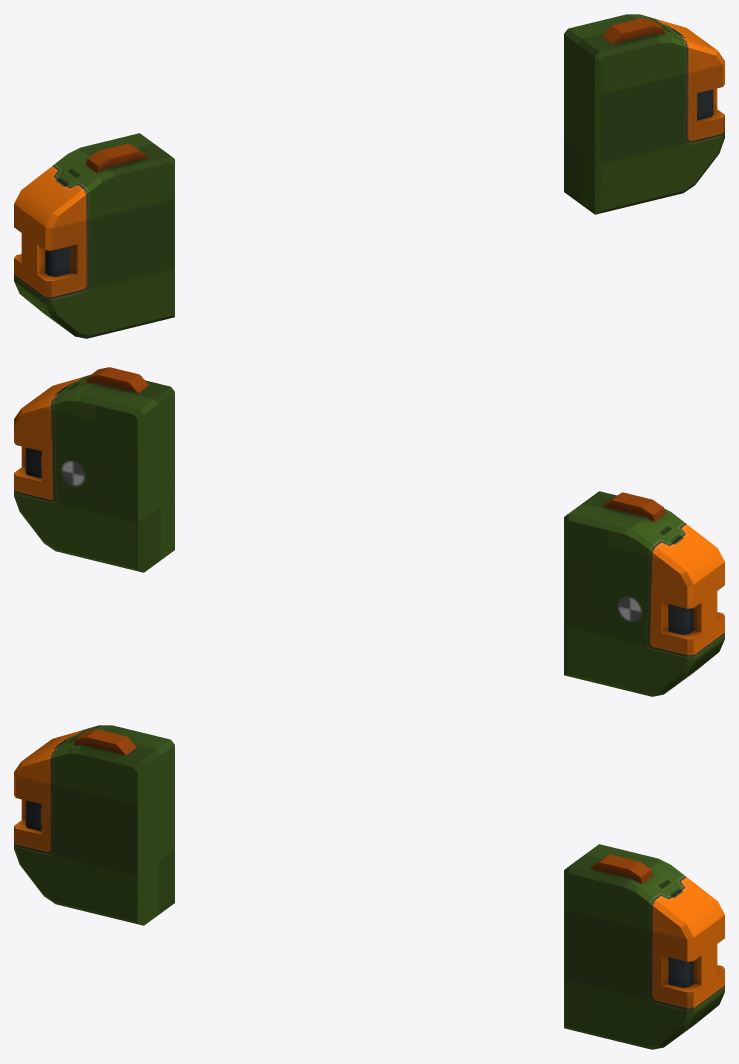
The model's file is Mod-L_blue.FBX.
3 renders of one model, top to bottom at view 1: azimuth 30°, elevation 25°; view 2: azimuth 150°, elevation 25°; view 3: azimuth 330°, elevation 25°, orthographic.
Visible parts, largest first — view 1: Mod-L_Left, Mod-L_Right; view 2: Mod-L_Left, Mod-L_Right; view 3: Mod-L_Right, Mod-L_Left.
Boxes of the visible parts, x1=… form: Mod-L_Left: x1=564, y1=14, x2=724, y2=214; Mod-L_Right: x1=14, y1=133, x2=174, y2=338; Mod-L_Left: x1=14, y1=367, x2=174, y2=572; Mod-L_Right: x1=564, y1=491, x2=724, y2=696; Mod-L_Right: x1=14, y1=725, x2=174, y2=925; Mod-L_Left: x1=564, y1=844, x2=724, y2=1049.
Size of the model in its own units: 10016 by 910 by 2404.
